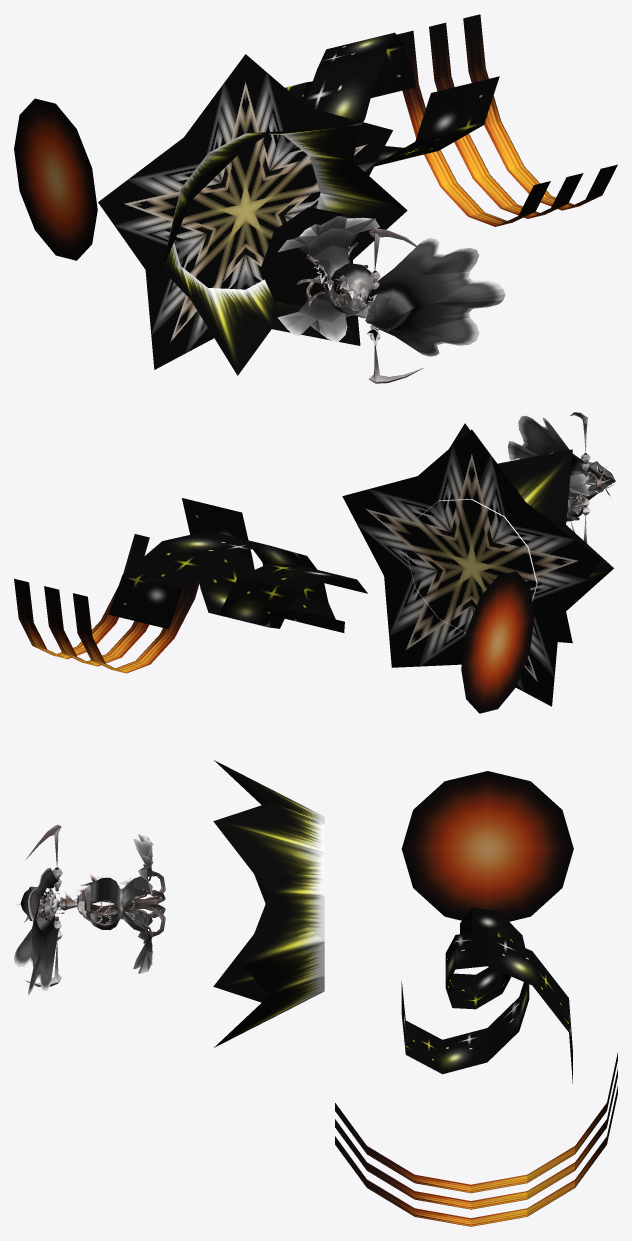
The picture shows the model from 3 angles, top to bottom: view 1: azimuth 30°, elevation 25°; view 2: azimuth 150°, elevation 25°; view 3: azimuth 270°, elevation 25°; orthographic projection. The views are drawn at different scales.
Parts seen in each view (by area): view 1: B_0034_1, B_0034_0; view 2: B_0034_1, B_0034_0; view 3: B_0034_1, B_0034_0.
Part boxes in pixels (x1=…): B_0034_1: x1=14, y1=14, x2=617, y2=375; B_0034_0: x1=260, y1=207, x2=423, y2=383; B_0034_1: x1=14, y1=415, x2=615, y2=713; B_0034_0: x1=566, y1=412, x2=614, y2=543; B_0034_1: x1=14, y1=760, x2=617, y2=1226; B_0034_0: x1=15, y1=824, x2=165, y2=986.
Bounding box in the file's own units: 13.76 × 7.35 × 13.32.
Materials: 2 (2 with a texture image).
